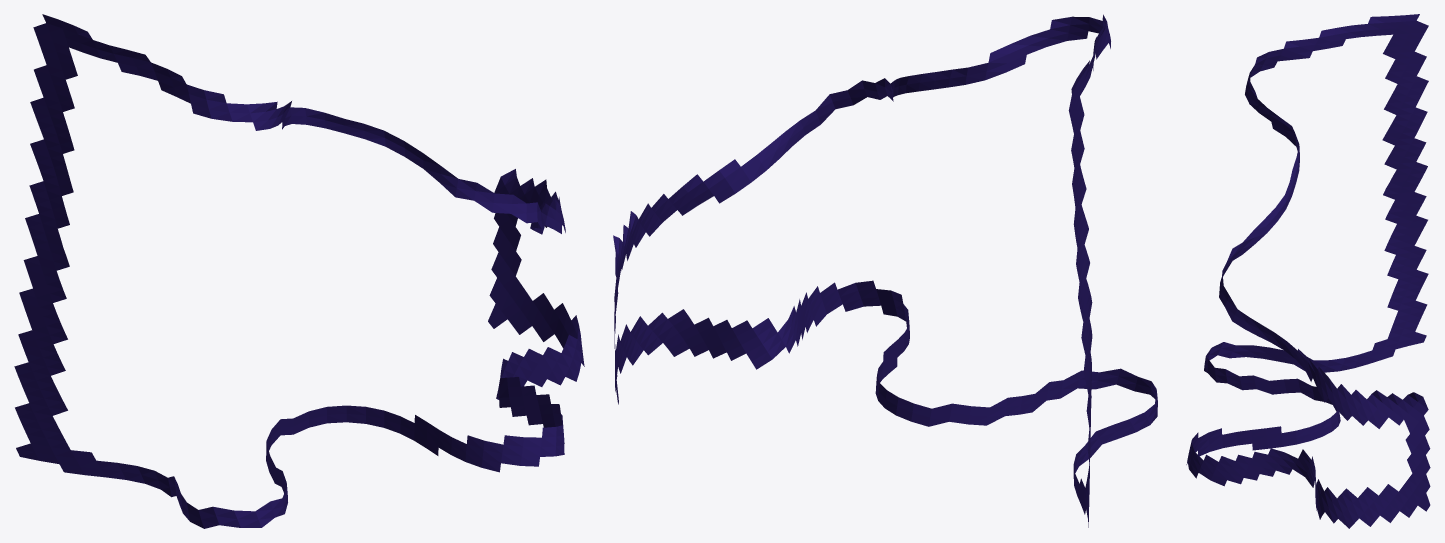
File: selected_mesh7.obj
The picture shows the model from 3 angles, left to right: view 1: azimuth 30°, elevation 25°; view 2: azimuth 150°, elevation 25°; view 3: azimuth 270°, elevation 25°; orthographic projection. The views are drawn at different scales.
Size of the model in its own units: 0.7684 by 0.6413 by 0.4136.
